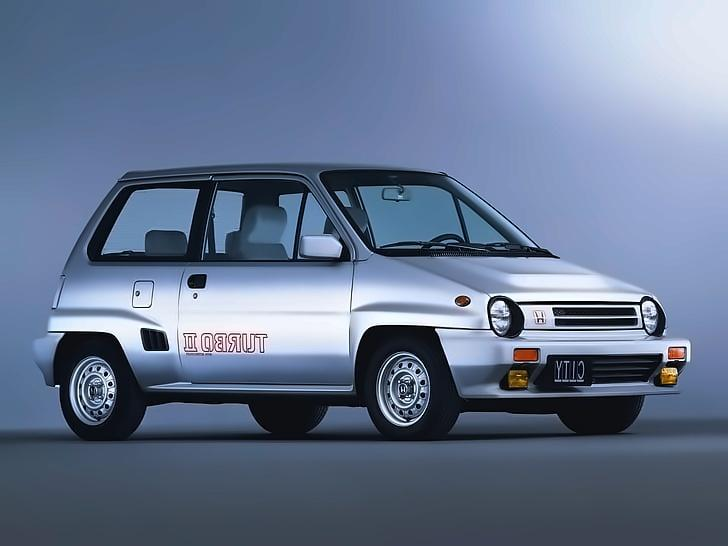Car hood: (389, 248, 659, 307)
Driver-s door - -F-R-: (175, 159, 360, 403)
Fender - -F-R-: (345, 250, 494, 378)
Fender - -R-R-: (41, 159, 191, 406)
Front bumper: (434, 326, 693, 406)
Rear bumper: (27, 332, 67, 391)
Side bumper - -R-: (135, 379, 370, 416)
Side mirror - -R-: (296, 232, 348, 262)
